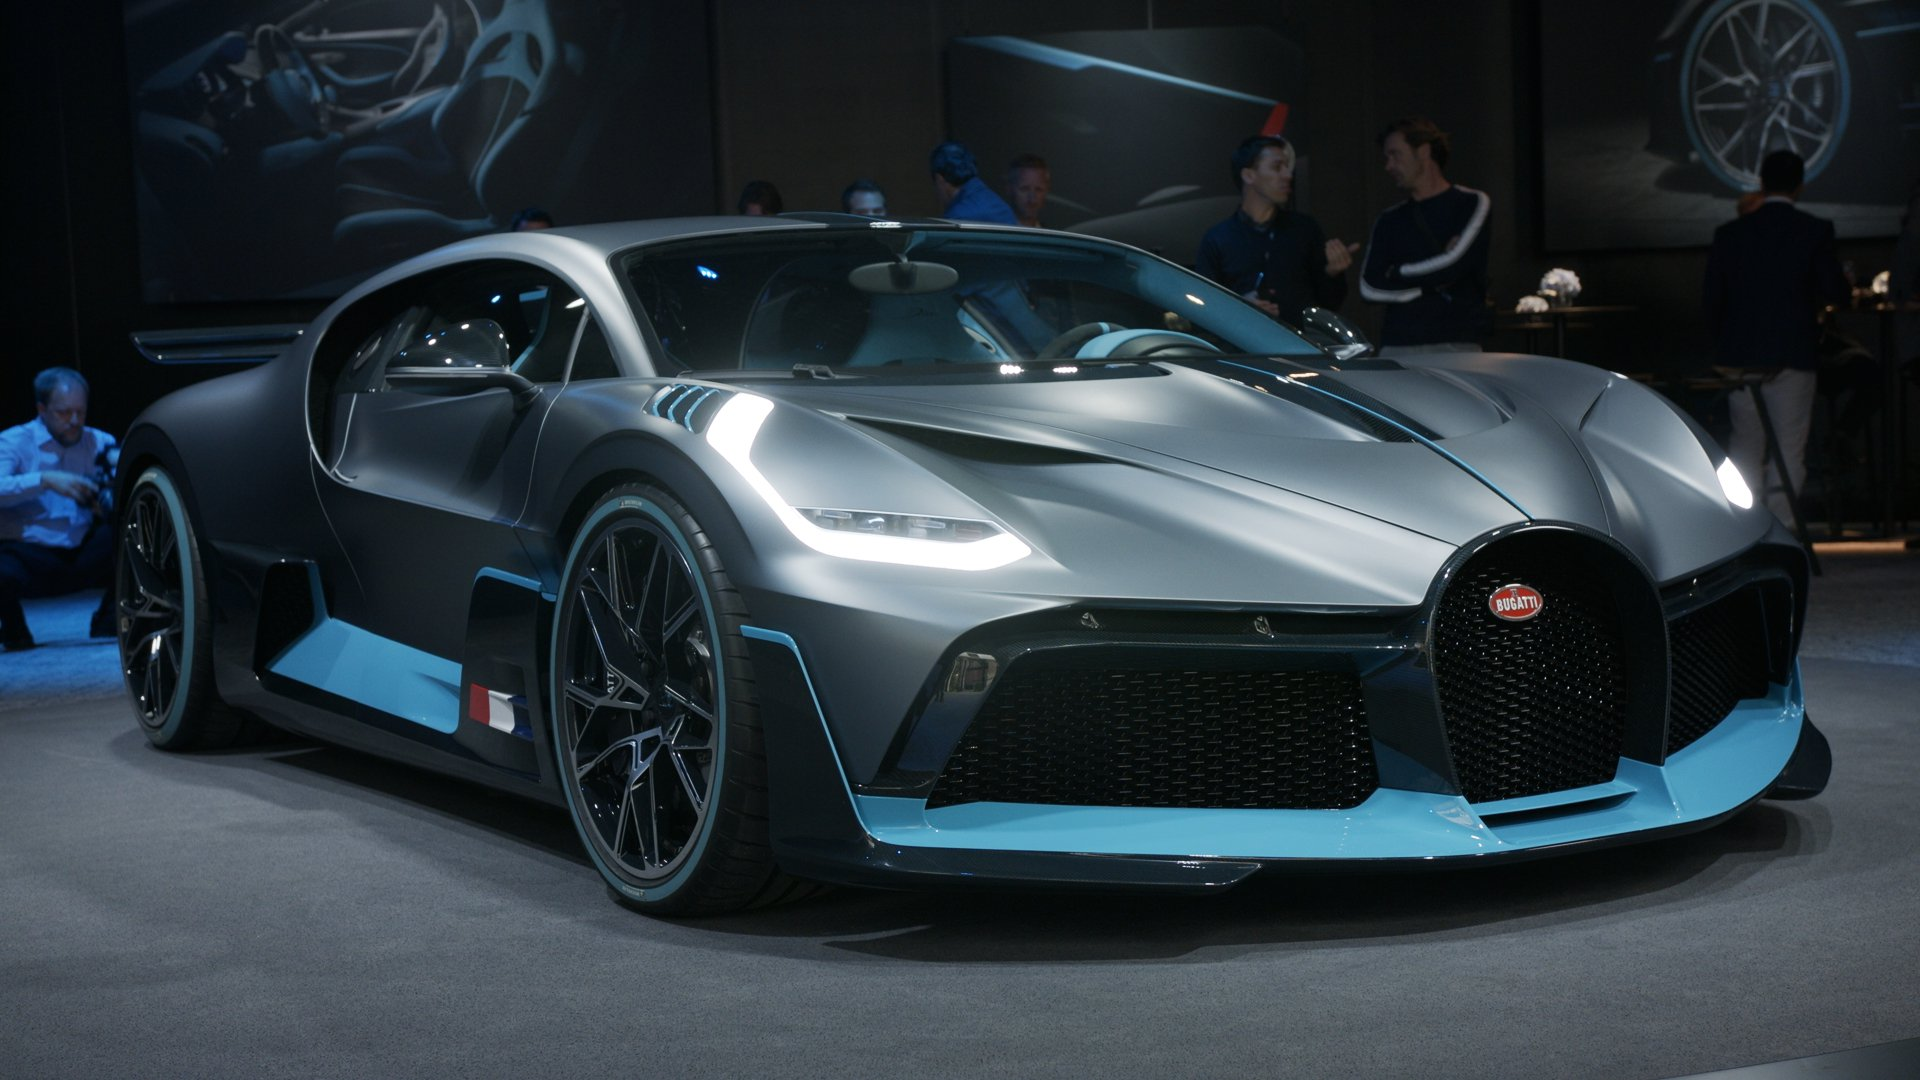car: (105, 208, 1836, 920)
